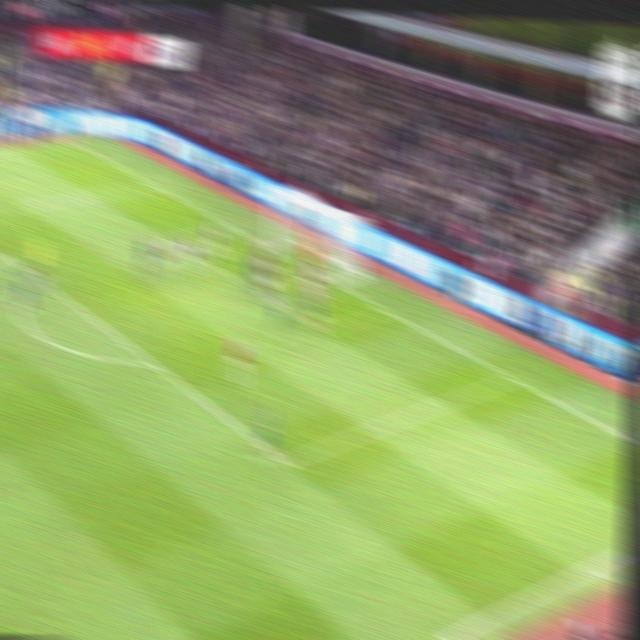bigarea_bottom_inner: (273, 449, 297, 475)
bigarea_bottom_outter: (502, 370, 522, 385)
bigarea_top_outter: (144, 177, 160, 190)
bottom_arc_area_intersection: (144, 353, 166, 374)
corner: (60, 135, 79, 145)
smallarea_bottom_inner: (313, 321, 333, 335)
smallarea_bottom_outter: (375, 301, 396, 318)
smallarea_top_inner: (160, 233, 179, 250)
smallarea_top_outter: (217, 216, 236, 233)
top_arc_area_intersection: (23, 265, 49, 290)
